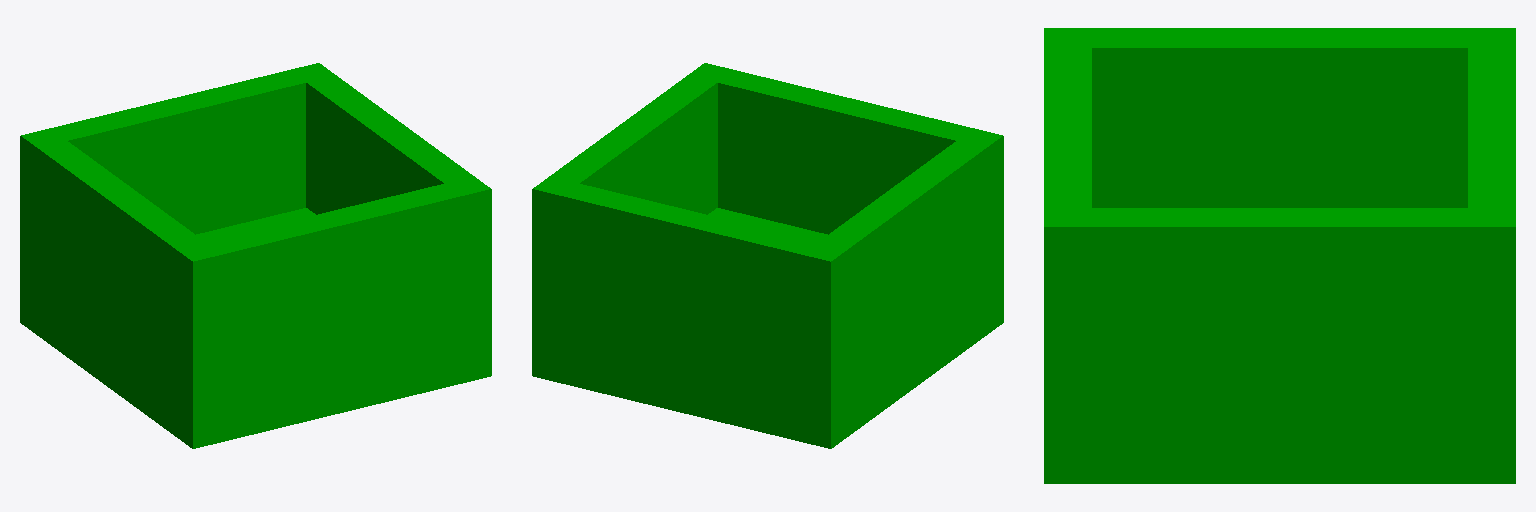
robot.urdf — green_box.urdf:
<?xml version="1.0"?>
<robot name="green_box.urdf">
  <material name="green">
    <color rgba="0 0.7 0 1"/>
  </material>
  <link name="bottom">
    <visual>
      <origin xyz="0 0 -0.15"/>
      <geometry>
        <box size="0.5 0.5 0.1"/>
      </geometry>
      <material name="green"/>
    </visual>
    <collision>
      <origin xyz="0 0 -0.15"/>
      <geometry>
        <box size="0.5 0.5 0.1"/>
      </geometry>
    </collision>
    <inertial>
      <mass value="0.2"/>
      <inertia ixx="1.0" iyy="1.0" izz="1.0" ixy="0" ixz="0" iyz="0"/>
    </inertial>
  </link>
  <link name="edge_nx">
    <visual>
      <geometry>
        <box size="0.05 0.5 0.2"/>
      </geometry>
      <material name="green"/>
    </visual>
    <collision>
      <geometry>
        <box size="0.05 0.5 0.2"/>
      </geometry>
    </collision>
    <inertial>
      <mass value="0.2"/>
      <inertia ixx="1.0" iyy="1.0" izz="1.0" ixy="0" ixz="0" iyz="0"/>
    </inertial>
  </link>
  <link name="edge_px">
    <visual>
      <geometry>
        <box size="0.05 0.5 0.2"/>
      </geometry>
      <material name="green"/>
    </visual>
    <collision>
      <geometry>
        <box size="0.05 0.5 0.2"/>
      </geometry>
    </collision>
    <inertial>
      <mass value="0.2"/>
      <inertia ixx="1.0" iyy="1.0" izz="1.0" ixy="0" ixz="0" iyz="0"/>
    </inertial>
  </link>
  <link name="edge_ny">
    <visual>
      <geometry>
        <box size="0.5 0.05 0.2"/>
      </geometry>
      <material name="green"/>
    </visual>
    <collision>
      <geometry>
        <box size="0.5 0.05 0.2"/>
      </geometry>
    </collision>
    <inertial>
      <mass value="0.2"/>
      <inertia ixx="1.0" iyy="1.0" izz="1.0" ixy="0" ixz="0" iyz="0"/>
    </inertial>
  </link>
  <link name="edge_py">
    <visual>
      <geometry>
        <box size="0.5 0.05 0.2"/>
      </geometry>
      <material name="green"/>
    </visual>
    <collision>
      <geometry>
        <box size="0.5 0.05 0.2"/>
      </geometry>
    </collision>
    <inertial>
      <mass value="0.2"/>
      <inertia ixx="1.0" iyy="1.0" izz="1.0" ixy="0" ixz="0" iyz="0"/>
    </inertial>
  </link>

  <joint name="edge_joint_nx" type="fixed">
    <origin xyz="-0.225 0 0"/>
    <parent link="bottom"/>
    <child link="edge_nx"/>
  </joint>
  <joint name="edge_joint_px" type="fixed">
    <origin xyz="0.225 0 0"/>
    <parent link="bottom"/>
    <child link="edge_px"/>
  </joint>
  <joint name="edge_joint_ny" type="fixed">
    <origin xyz="0 -0.225 0"/>
    <parent link="bottom"/>
    <child link="edge_ny"/>
  </joint>
  <joint name="edge_joint_py" type="fixed">
    <origin xyz="0 0.225 0"/>
    <parent link="bottom"/>
    <child link="edge_py"/>
  </joint>
</robot>

--- Facts derived from the render (not from the file) ---
3 views of the same robot in one strip: view 1: azimuth 30°, elevation 25°; view 2: azimuth 150°, elevation 25°; view 3: azimuth 270°, elevation 25° (orthographic).
Model green_box.urdf with 5 links and 4 joints (4 fixed), rooted at bottom, posed all joints at 0.
Visible links, largest first — view 1: edge_ny, bottom, edge_nx, edge_py, edge_px; view 2: edge_py, bottom, edge_ny, edge_nx, edge_px; view 3: edge_px, edge_nx, bottom, edge_py, edge_ny.
Boxes of the visible links, <box> form: edge_ny: <box>176,176,491,385</box>; bottom: <box>20,208,491,448</box>; edge_nx: <box>20,128,222,386</box>; edge_py: <box>20,63,335,271</box>; edge_px: <box>290,63,491,317</box>; edge_py: <box>532,177,846,384</box>; bottom: <box>532,208,1003,448</box>; edge_ny: <box>693,63,1003,272</box>; edge_nx: <box>801,130,1003,386</box>; edge_px: <box>532,63,730,320</box>; edge_px: <box>1044,208,1515,397</box>; edge_nx: <box>1044,28,1515,207</box>; bottom: <box>1044,398,1515,483</box>; edge_py: <box>1468,28,1515,397</box>; edge_ny: <box>1044,28,1091,397</box>.
Bounding box of the posed robot: 0.5 × 0.5 × 0.3 m (x, y, z).
Geometry: primitives only (box / cylinder / sphere), no mesh files.
